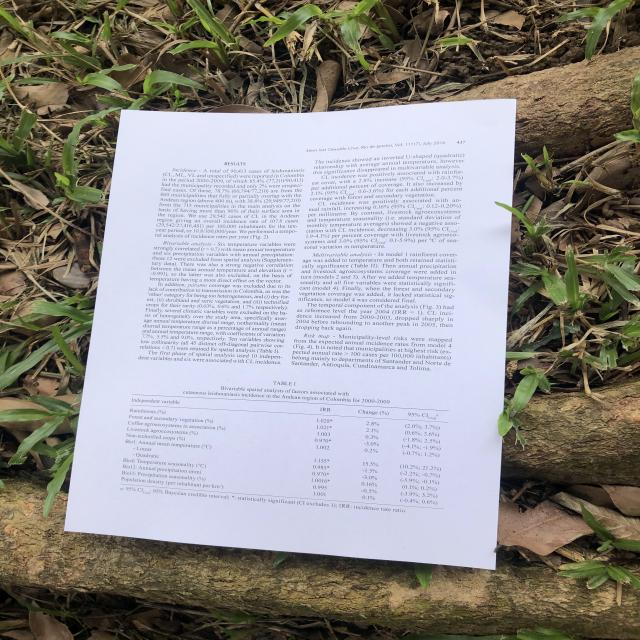kertas: (64, 76, 521, 569)
